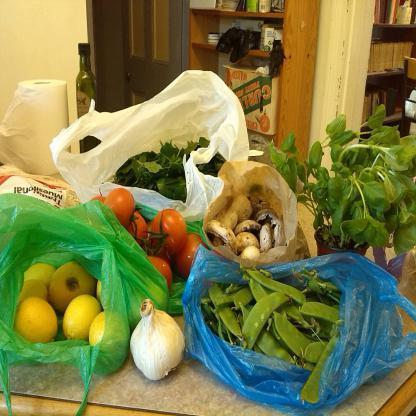lemon: (50, 262, 96, 312), (14, 296, 58, 342), (62, 294, 100, 340), (89, 311, 130, 353), (20, 263, 56, 292), (20, 279, 48, 301)
